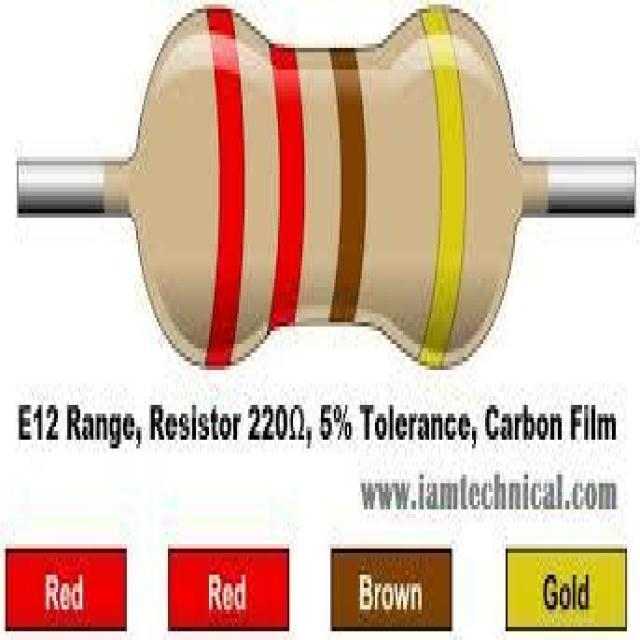Resistor: (106, 9, 547, 361)
brown: (331, 35, 371, 348)
gold: (418, 0, 470, 383)
red: (206, 0, 250, 396), (269, 14, 311, 352)
